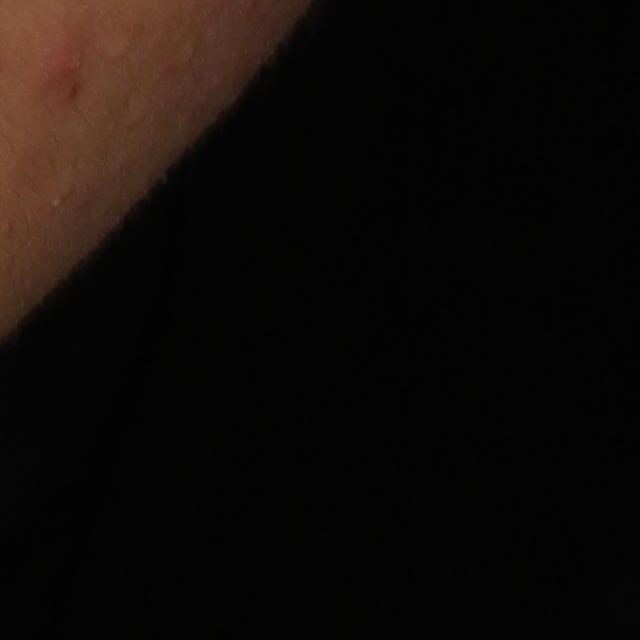papule: (41, 33, 94, 92)
